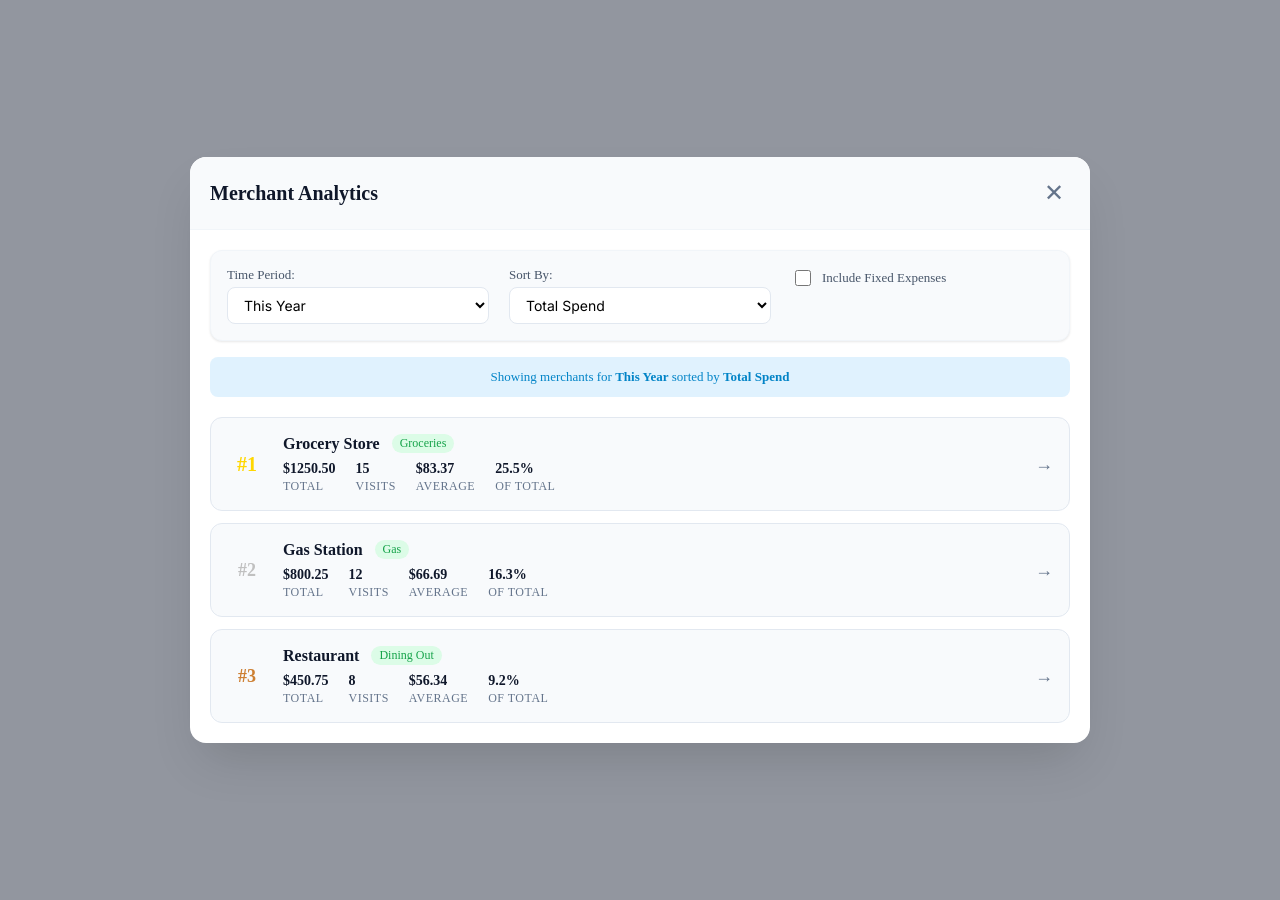
Test: MerchantAnalyticsModal › Sort Toggle Functionality › changes sort criteria and refetches data
Check: the text "Grocery Store" is shown, box [283,434,380,452]
Note: Find and change the sort filter
Select "Visit Count" in the dropdown below "Sort By:" at (640, 306), box [509,287,771,324]
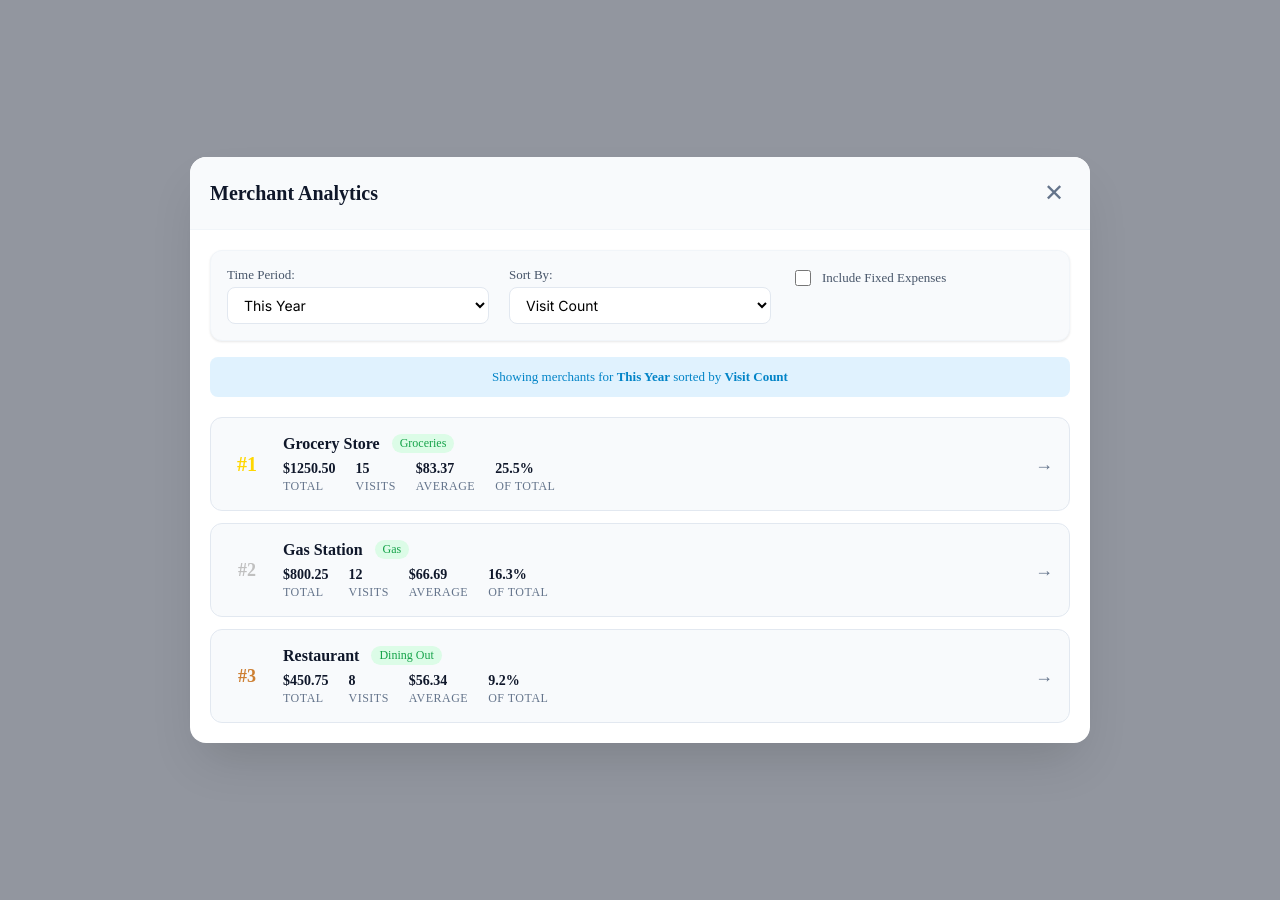
Check: the element with class "merchant-analytics-current-filters" shows "Visit Count", box [724,369,788,384]
